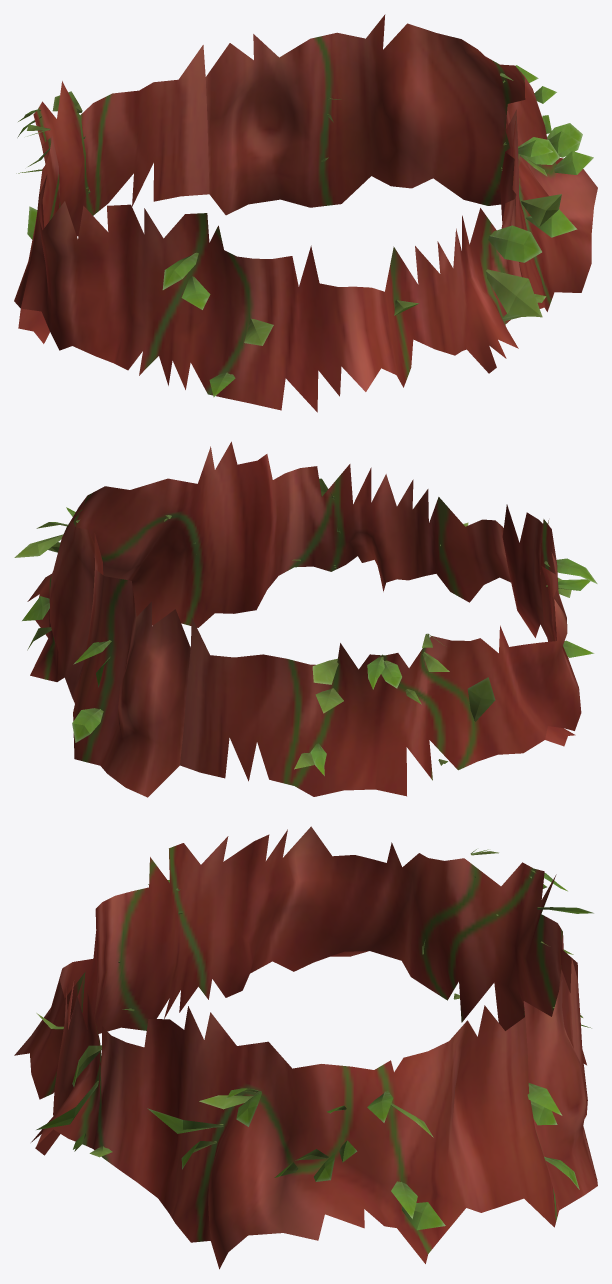
File: torchwood_tronco.obj
3 views of the same model, one above another, from view 1: azimuth 30°, elevation 25°; view 2: azimuth 150°, elevation 25°; view 3: azimuth 270°, elevation 25° (orthographic). The views are drawn at different scales.
Visible parts, largest first — view 1: torchwood_tronco; view 2: torchwood_tronco; view 3: torchwood_tronco.
Boxes of the visible parts, left/top/right/bottom form: torchwood_tronco: left=14, top=14, right=597, bottom=412; torchwood_tronco: left=14, top=441, right=597, bottom=797; torchwood_tronco: left=14, top=826, right=597, bottom=1269.
Bounding box in the file's own units: 1.45 × 0.5214 × 1.19.
